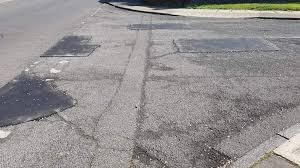crack: (93, 14, 145, 168), (17, 80, 92, 143), (132, 13, 153, 168), (149, 40, 282, 59)
